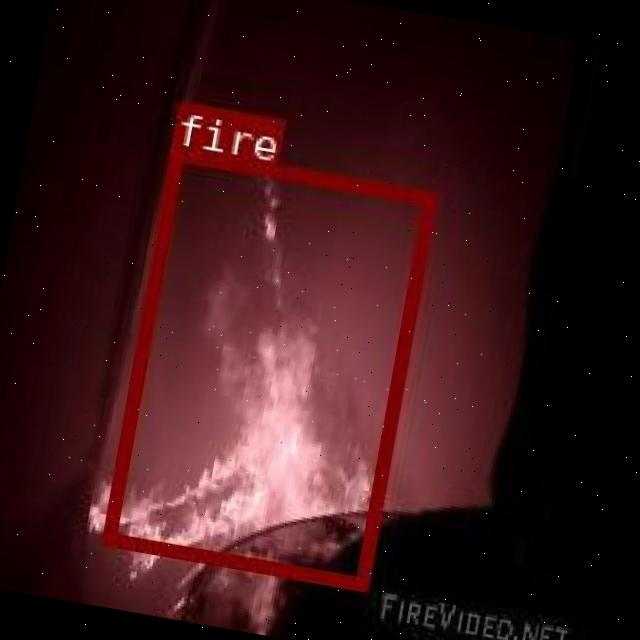fire: (101, 146, 434, 586)
